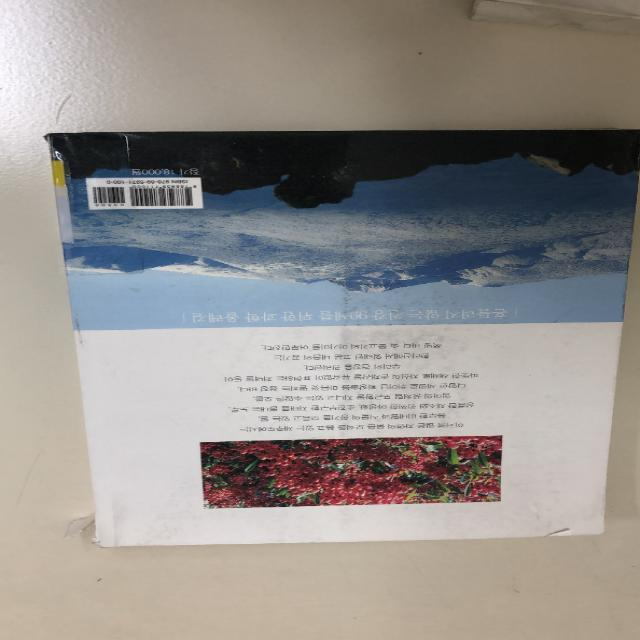Ripped: (60, 506, 123, 555), (528, 524, 592, 547), (37, 129, 65, 153)
